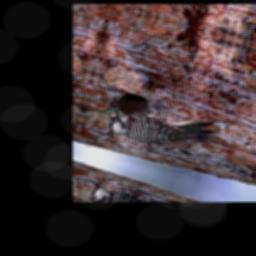Woodpecker: (105, 95, 216, 161)
